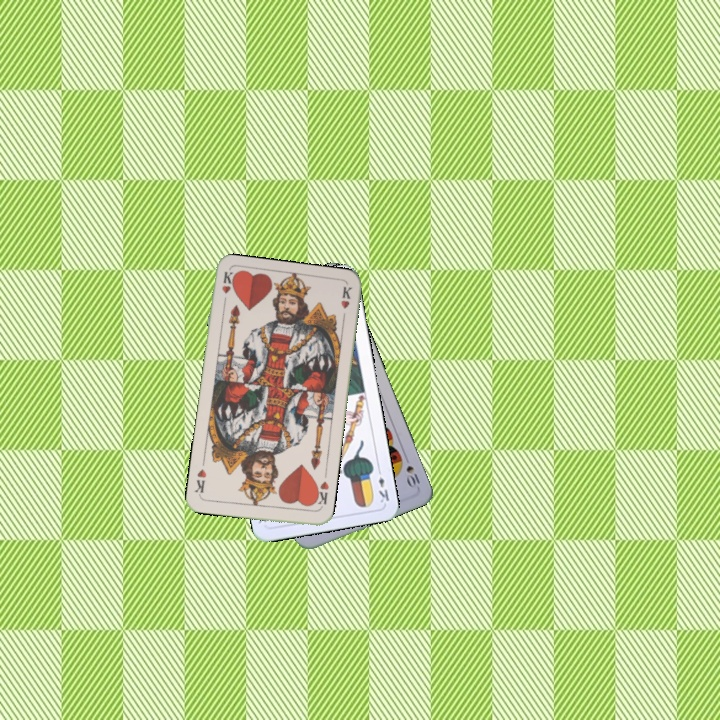EK: (374, 464, 392, 505)
HK: (218, 268, 237, 309), (310, 477, 331, 512)
S10: (401, 451, 423, 490)
